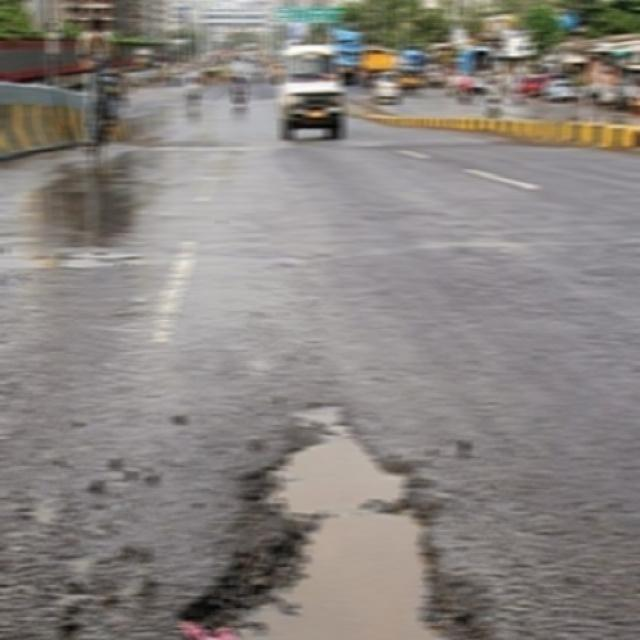Pothole: (164, 399, 474, 640), (14, 240, 158, 279)
